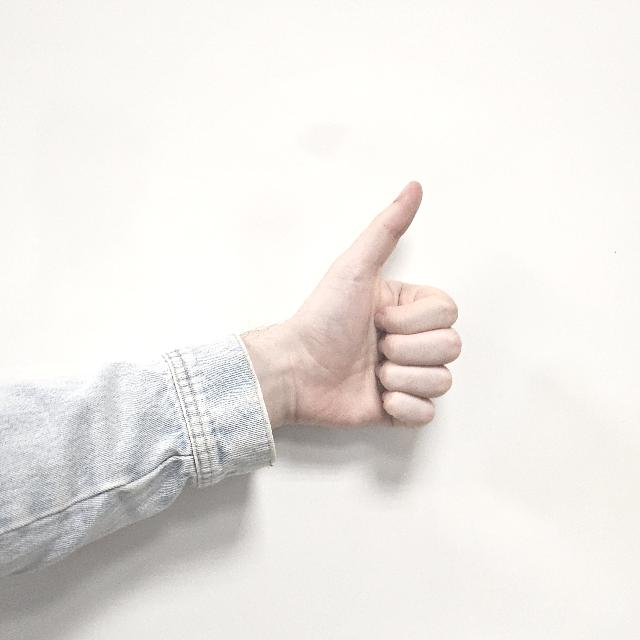Start: (240, 182, 460, 452)
